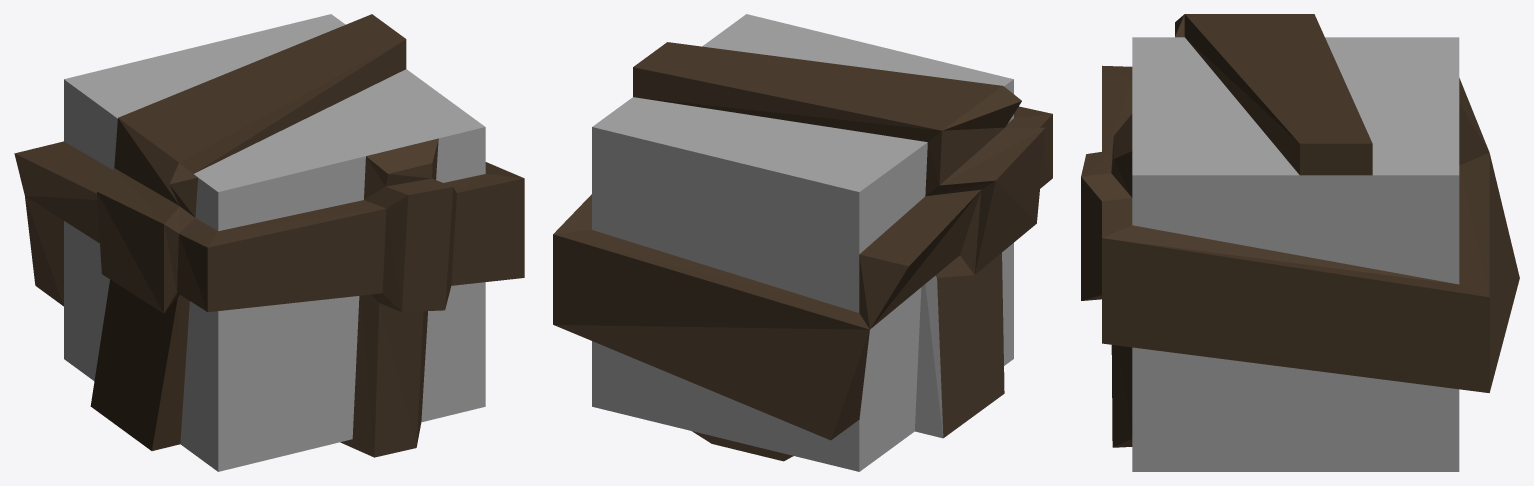
Rendered from Rubish 3.fbx.
The picture shows the model from 3 angles, left to right: view 1: azimuth 30°, elevation 25°; view 2: azimuth 150°, elevation 25°; view 3: azimuth 270°, elevation 25°; orthographic projection. The views are drawn at different scales.
Parts seen in each view (by area): view 1: pCube977; view 2: pCube977; view 3: pCube977.
Boxes of the visible parts, left/top/right/bottom form: pCube977: left=14, top=14, right=524, bottom=471; pCube977: left=553, top=14, right=1052, bottom=471; pCube977: left=1081, top=14, right=1519, bottom=471.
Bounding box in the file's own units: 120 × 109 × 125.
